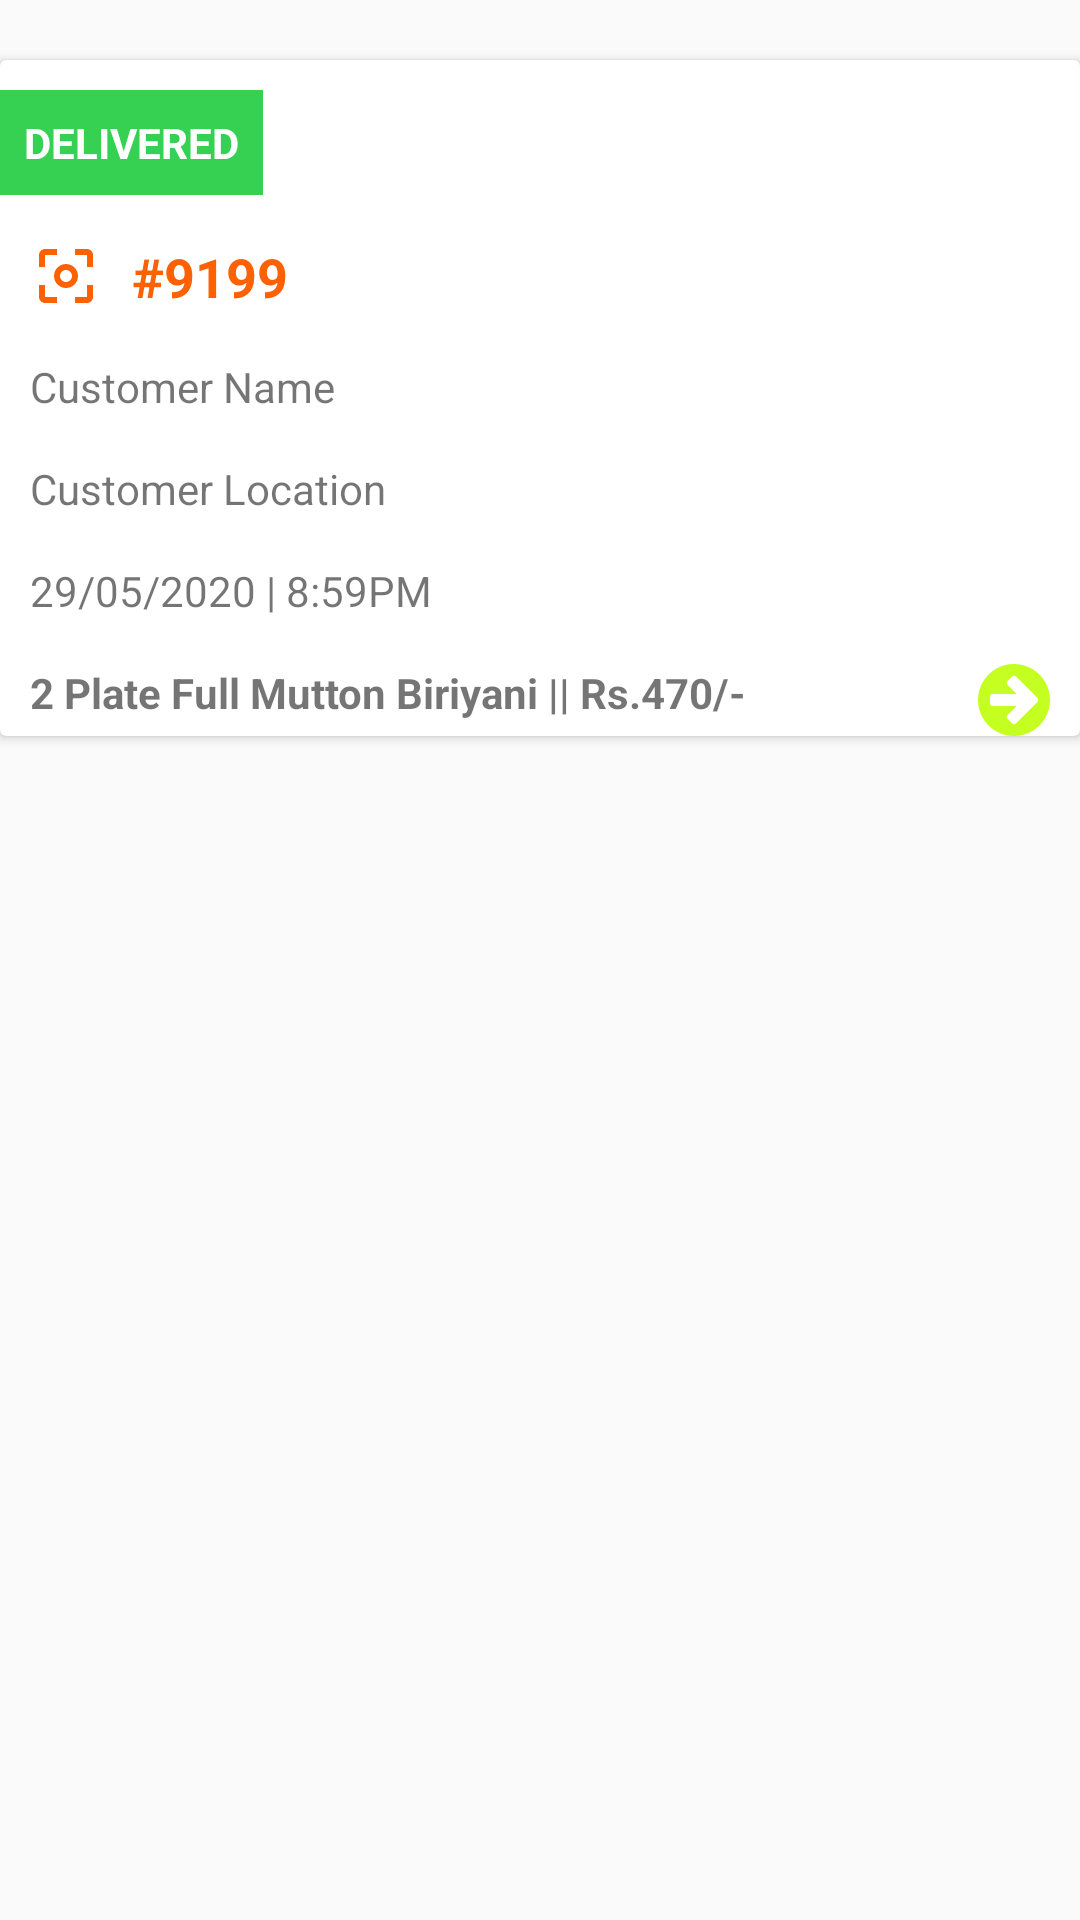

Icons on this 1080w x 1920h Android screen, each with the point to tap as [x,y]:
arrow right: [1014,700]
